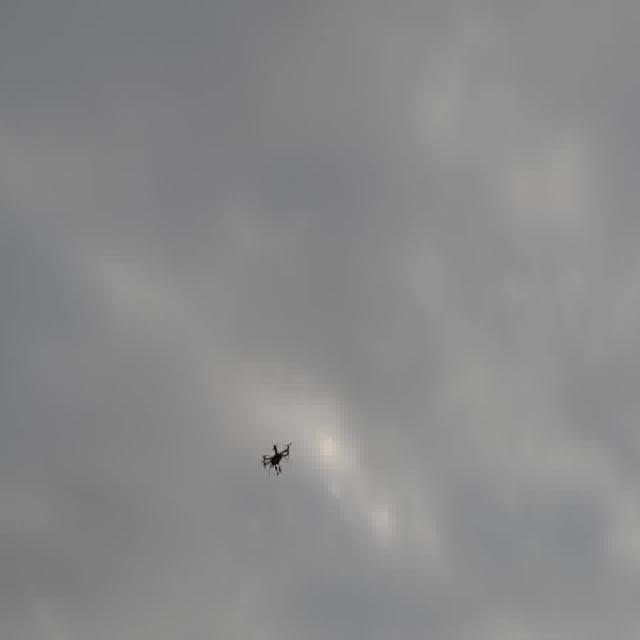drone: (258, 436, 296, 479)
